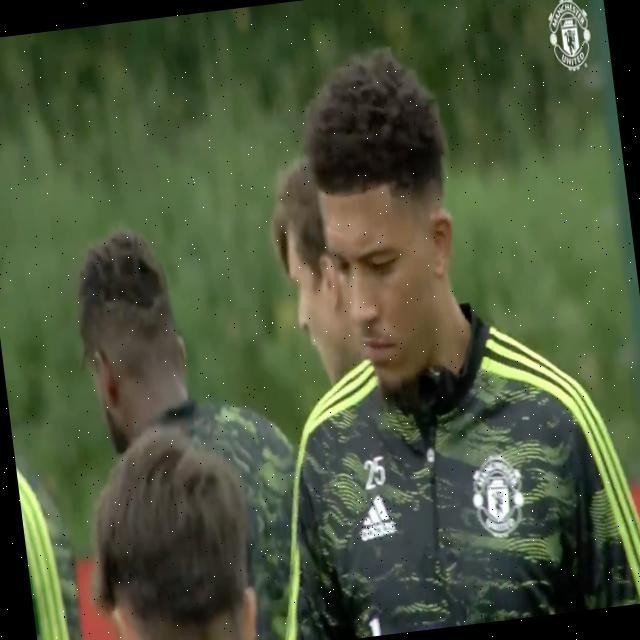Adidas: (356, 491, 399, 543)
